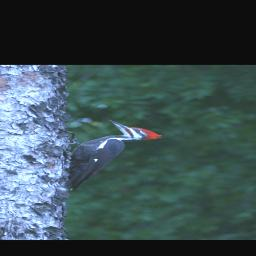Woodpecker: (61, 117, 162, 194)
